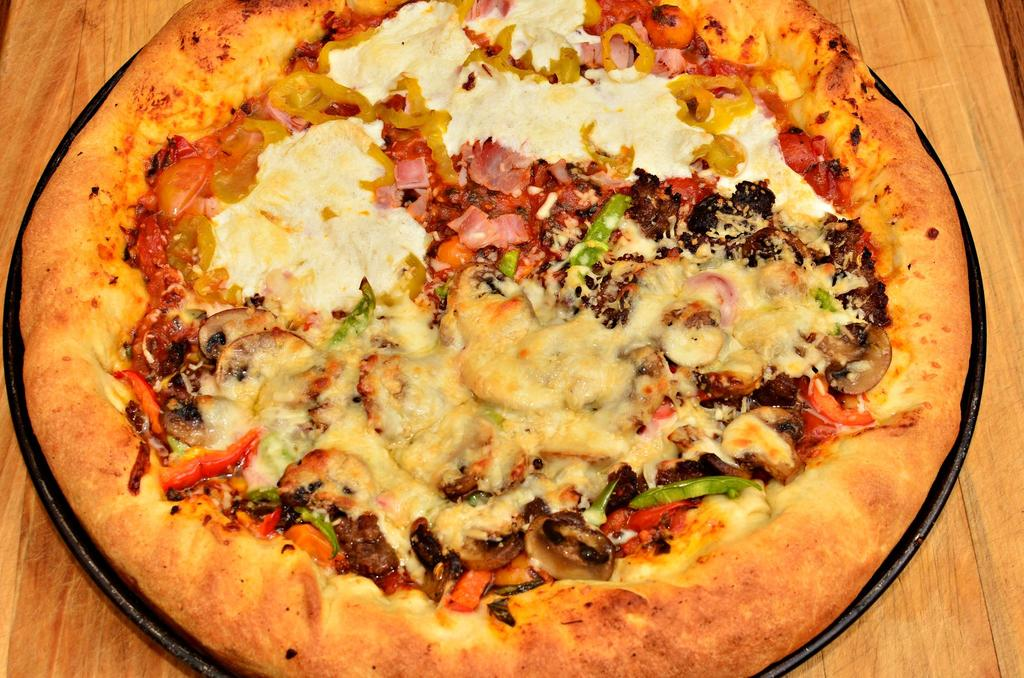Pizza: (14, 0, 976, 676)
